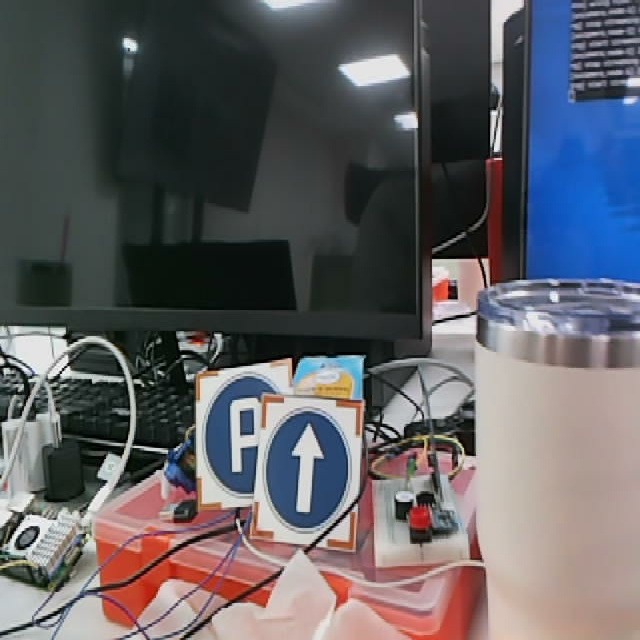parking: (194, 359, 294, 504)
straight: (253, 397, 370, 550)
